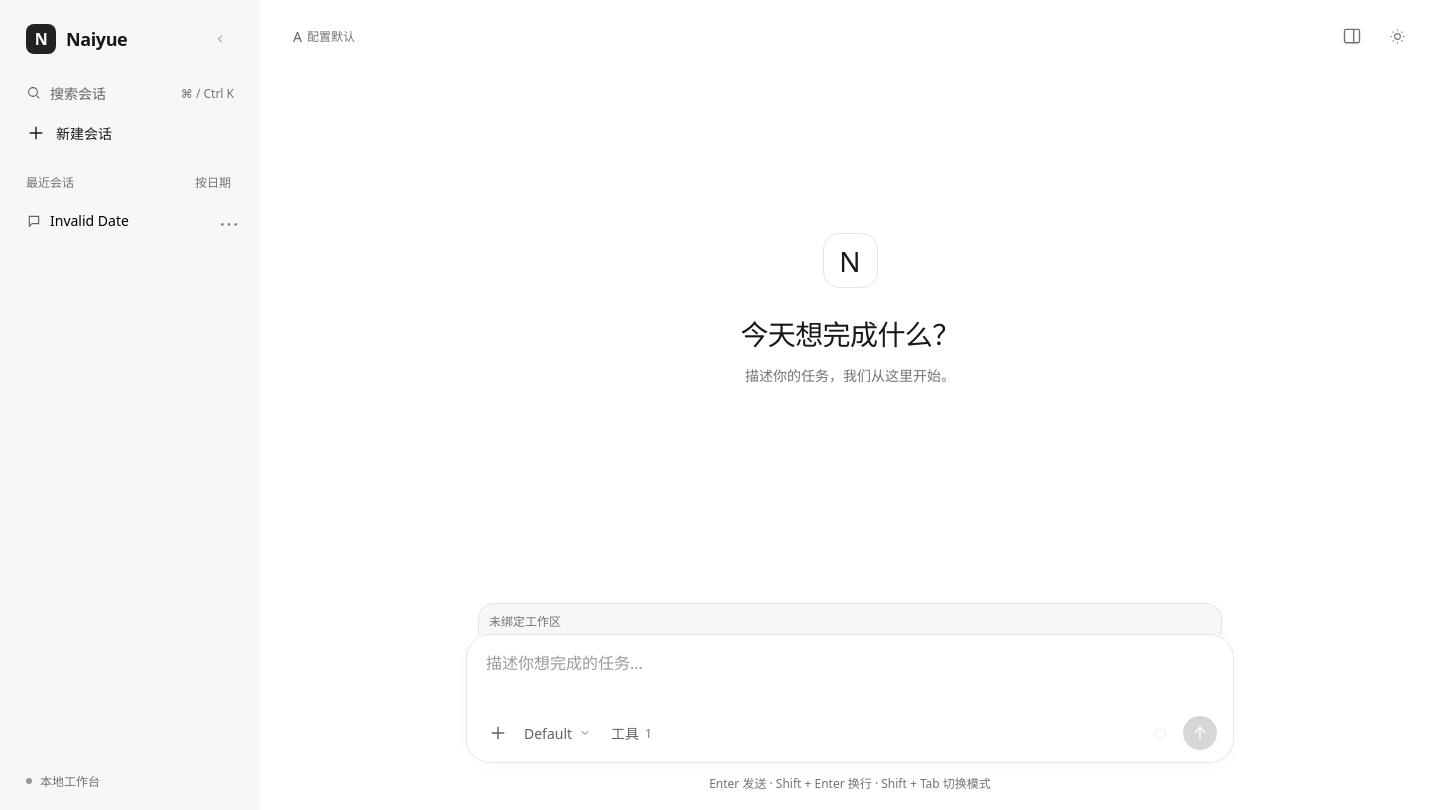
still reloads effective tool options when MCP configuration refresh fails
This screenshot has width=1440, height=810.
Click the button "工具 1": [632, 733] box [603,716,660,750]
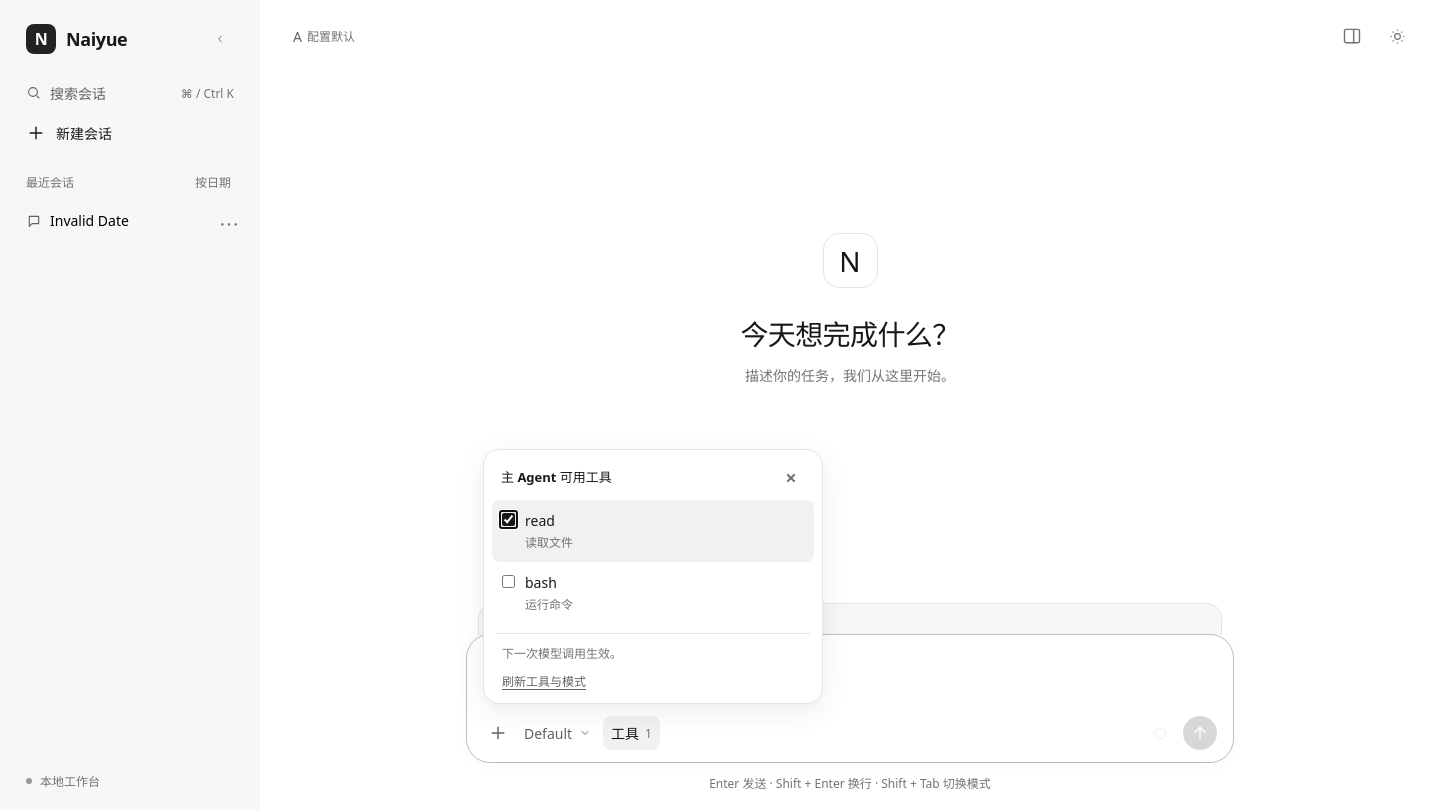
Click the button "刷新工具与模式": [544, 681] box [496,667,592,695]
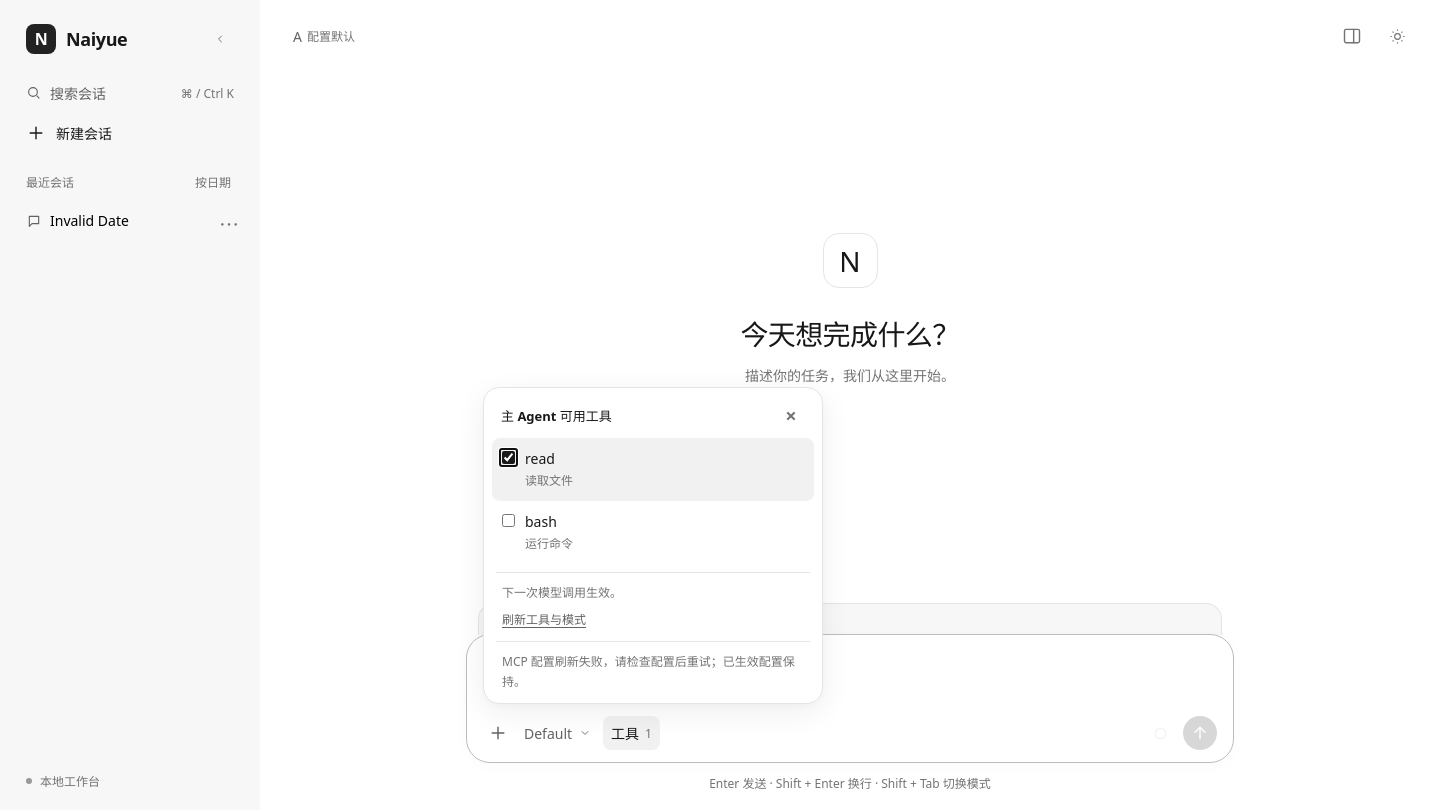
Check: the checkbox labelled "read 读取文件" is shown, box [502,451,515,464]
Check: the text "MCP 配置刷新失败，请检查配置后重试；已生效配置保持。" is shown, box [496,641,810,695]
